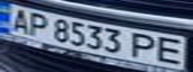3: (103, 25, 127, 55), (84, 22, 106, 52)
5: (66, 19, 87, 47)
8: (48, 16, 72, 44)
A: (3, 6, 33, 34)
E: (151, 35, 190, 65)
P: (127, 30, 163, 60), (24, 10, 54, 37)
